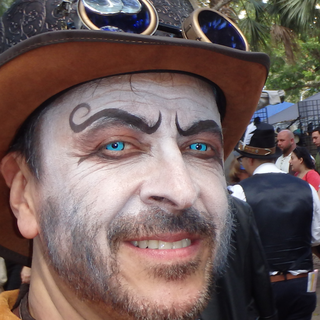eye: (91, 133, 144, 160), (173, 134, 217, 164)
